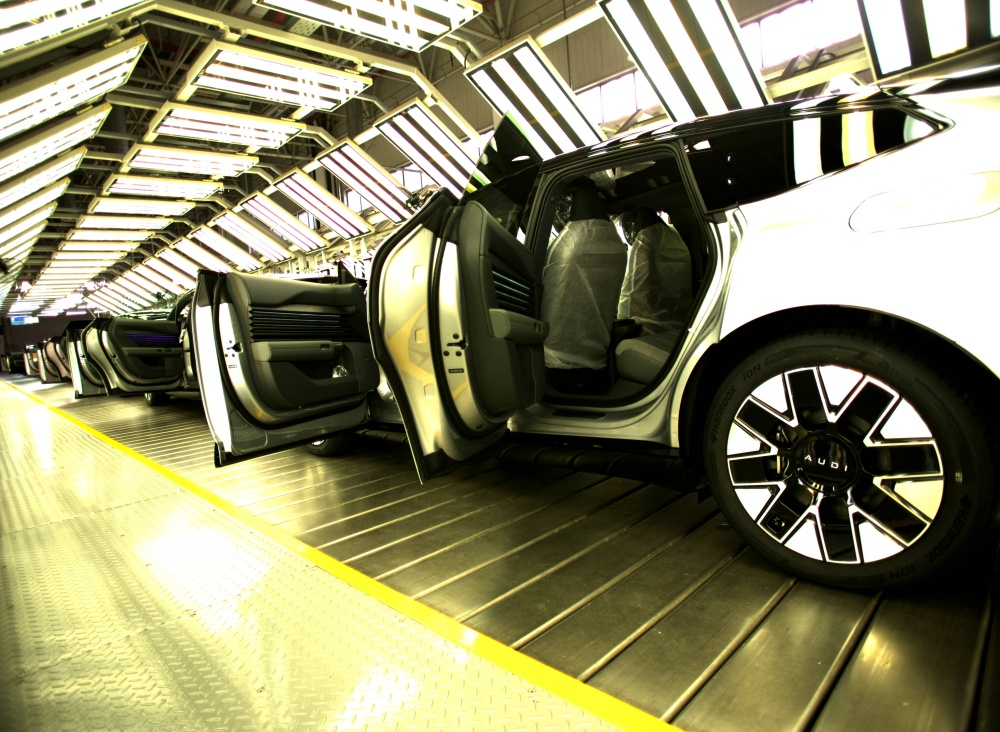armrest_color: (245, 338, 345, 363), (486, 306, 553, 343)
panel_color: (244, 304, 350, 339), (487, 257, 539, 317)
